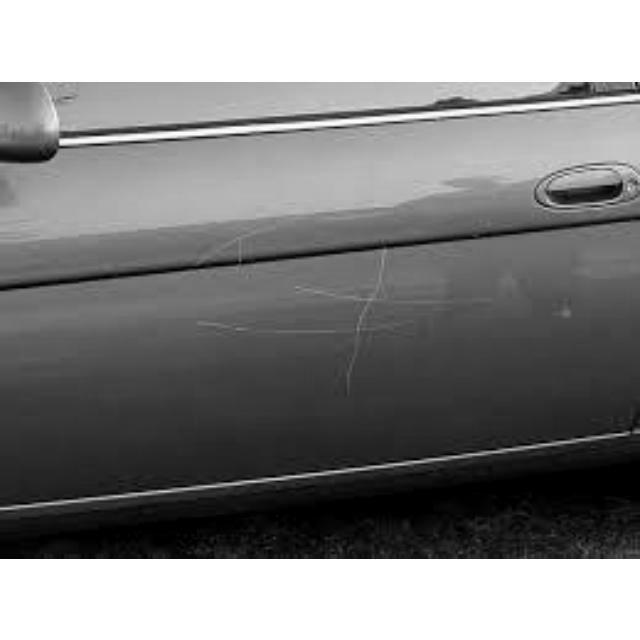doorouter-dent: (126, 146, 485, 475)
